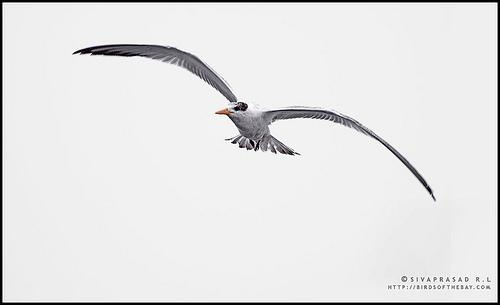bird: (73, 42, 439, 201)
